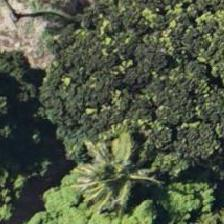coconut_tree: (70, 126, 160, 216)
